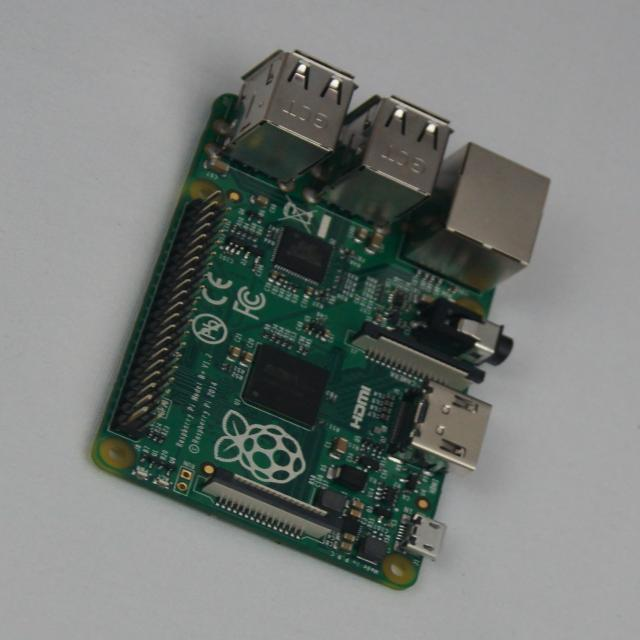Raspberry Pi 1 B-: (93, 51, 549, 589)
